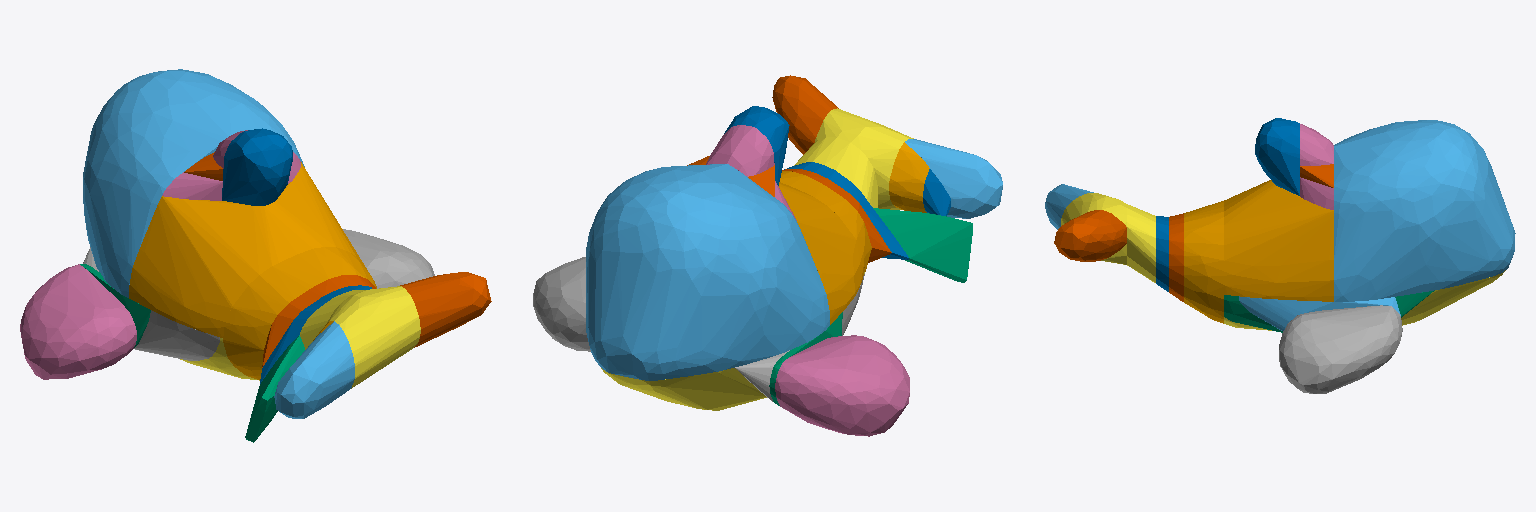
robot.urdf — root:
<?xml version='1.0' encoding='UTF-8'?>
<robot name="root">
  <link name="link_convex_piece_000.obj">
    <inertial>
      <origin xyz="0 0 0" rpy="0 0 0"/>
    </inertial>
    <visual>
      <origin xyz="0 0 0" rpy="0 0 0"/>
      <geometry>
        <mesh filename="meshes/convex_piece_000.obj" scale="1.0 1.0 1.0"/>
      </geometry>
    </visual>
    <collision>
      <origin xyz="0 0 0" rpy="0 0 0"/>
      <geometry>
        <mesh filename="meshes/convex_piece_000.obj" scale="1.0 1.0 1.0"/>
      </geometry>
    </collision>
  </link>
  <link name="link_convex_piece_001.obj">
    <inertial>
      <origin xyz="0 0 0" rpy="0 0 0"/>
    </inertial>
    <visual>
      <origin xyz="0 0 0" rpy="0 0 0"/>
      <geometry>
        <mesh filename="meshes/convex_piece_001.obj" scale="1.0 1.0 1.0"/>
      </geometry>
    </visual>
    <collision>
      <origin xyz="0 0 0" rpy="0 0 0"/>
      <geometry>
        <mesh filename="meshes/convex_piece_001.obj" scale="1.0 1.0 1.0"/>
      </geometry>
    </collision>
  </link>
  <link name="link_convex_piece_002.obj">
    <inertial>
      <origin xyz="0 0 0" rpy="0 0 0"/>
    </inertial>
    <visual>
      <origin xyz="0 0 0" rpy="0 0 0"/>
      <geometry>
        <mesh filename="meshes/convex_piece_002.obj" scale="1.0 1.0 1.0"/>
      </geometry>
    </visual>
    <collision>
      <origin xyz="0 0 0" rpy="0 0 0"/>
      <geometry>
        <mesh filename="meshes/convex_piece_002.obj" scale="1.0 1.0 1.0"/>
      </geometry>
    </collision>
  </link>
  <link name="link_convex_piece_003.obj">
    <inertial>
      <origin xyz="0 0 0" rpy="0 0 0"/>
    </inertial>
    <visual>
      <origin xyz="0 0 0" rpy="0 0 0"/>
      <geometry>
        <mesh filename="meshes/convex_piece_003.obj" scale="1.0 1.0 1.0"/>
      </geometry>
    </visual>
    <collision>
      <origin xyz="0 0 0" rpy="0 0 0"/>
      <geometry>
        <mesh filename="meshes/convex_piece_003.obj" scale="1.0 1.0 1.0"/>
      </geometry>
    </collision>
  </link>
  <link name="link_convex_piece_004.obj">
    <inertial>
      <origin xyz="0 0 0" rpy="0 0 0"/>
    </inertial>
    <visual>
      <origin xyz="0 0 0" rpy="0 0 0"/>
      <geometry>
        <mesh filename="meshes/convex_piece_004.obj" scale="1.0 1.0 1.0"/>
      </geometry>
    </visual>
    <collision>
      <origin xyz="0 0 0" rpy="0 0 0"/>
      <geometry>
        <mesh filename="meshes/convex_piece_004.obj" scale="1.0 1.0 1.0"/>
      </geometry>
    </collision>
  </link>
  <link name="link_convex_piece_005.obj">
    <inertial>
      <origin xyz="0 0 0" rpy="0 0 0"/>
    </inertial>
    <visual>
      <origin xyz="0 0 0" rpy="0 0 0"/>
      <geometry>
        <mesh filename="meshes/convex_piece_005.obj" scale="1.0 1.0 1.0"/>
      </geometry>
    </visual>
    <collision>
      <origin xyz="0 0 0" rpy="0 0 0"/>
      <geometry>
        <mesh filename="meshes/convex_piece_005.obj" scale="1.0 1.0 1.0"/>
      </geometry>
    </collision>
  </link>
  <link name="link_convex_piece_006.obj">
    <inertial>
      <origin xyz="0 0 0" rpy="0 0 0"/>
    </inertial>
    <visual>
      <origin xyz="0 0 0" rpy="0 0 0"/>
      <geometry>
        <mesh filename="meshes/convex_piece_006.obj" scale="1.0 1.0 1.0"/>
      </geometry>
    </visual>
    <collision>
      <origin xyz="0 0 0" rpy="0 0 0"/>
      <geometry>
        <mesh filename="meshes/convex_piece_006.obj" scale="1.0 1.0 1.0"/>
      </geometry>
    </collision>
  </link>
  <link name="link_convex_piece_007.obj">
    <inertial>
      <origin xyz="0 0 0" rpy="0 0 0"/>
    </inertial>
    <visual>
      <origin xyz="0 0 0" rpy="0 0 0"/>
      <geometry>
        <mesh filename="meshes/convex_piece_007.obj" scale="1.0 1.0 1.0"/>
      </geometry>
    </visual>
    <collision>
      <origin xyz="0 0 0" rpy="0 0 0"/>
      <geometry>
        <mesh filename="meshes/convex_piece_007.obj" scale="1.0 1.0 1.0"/>
      </geometry>
    </collision>
  </link>
  <link name="link_convex_piece_008.obj">
    <inertial>
      <origin xyz="0 0 0" rpy="0 0 0"/>
    </inertial>
    <visual>
      <origin xyz="0 0 0" rpy="0 0 0"/>
      <geometry>
        <mesh filename="meshes/convex_piece_008.obj" scale="1.0 1.0 1.0"/>
      </geometry>
    </visual>
    <collision>
      <origin xyz="0 0 0" rpy="0 0 0"/>
      <geometry>
        <mesh filename="meshes/convex_piece_008.obj" scale="1.0 1.0 1.0"/>
      </geometry>
    </collision>
  </link>
  <link name="link_convex_piece_009.obj">
    <inertial>
      <origin xyz="0 0 0" rpy="0 0 0"/>
    </inertial>
    <visual>
      <origin xyz="0 0 0" rpy="0 0 0"/>
      <geometry>
        <mesh filename="meshes/convex_piece_009.obj" scale="1.0 1.0 1.0"/>
      </geometry>
    </visual>
    <collision>
      <origin xyz="0 0 0" rpy="0 0 0"/>
      <geometry>
        <mesh filename="meshes/convex_piece_009.obj" scale="1.0 1.0 1.0"/>
      </geometry>
    </collision>
  </link>
  <link name="link_convex_piece_010.obj">
    <inertial>
      <origin xyz="0 0 0" rpy="0 0 0"/>
    </inertial>
    <visual>
      <origin xyz="0 0 0" rpy="0 0 0"/>
      <geometry>
        <mesh filename="meshes/convex_piece_010.obj" scale="1.0 1.0 1.0"/>
      </geometry>
    </visual>
    <collision>
      <origin xyz="0 0 0" rpy="0 0 0"/>
      <geometry>
        <mesh filename="meshes/convex_piece_010.obj" scale="1.0 1.0 1.0"/>
      </geometry>
    </collision>
  </link>
  <link name="link_convex_piece_011.obj">
    <inertial>
      <origin xyz="0 0 0" rpy="0 0 0"/>
    </inertial>
    <visual>
      <origin xyz="0 0 0" rpy="0 0 0"/>
      <geometry>
        <mesh filename="meshes/convex_piece_011.obj" scale="1.0 1.0 1.0"/>
      </geometry>
    </visual>
    <collision>
      <origin xyz="0 0 0" rpy="0 0 0"/>
      <geometry>
        <mesh filename="meshes/convex_piece_011.obj" scale="1.0 1.0 1.0"/>
      </geometry>
    </collision>
  </link>
  <link name="link_convex_piece_012.obj">
    <inertial>
      <origin xyz="0 0 0" rpy="0 0 0"/>
    </inertial>
    <visual>
      <origin xyz="0 0 0" rpy="0 0 0"/>
      <geometry>
        <mesh filename="meshes/convex_piece_012.obj" scale="1.0 1.0 1.0"/>
      </geometry>
    </visual>
    <collision>
      <origin xyz="0 0 0" rpy="0 0 0"/>
      <geometry>
        <mesh filename="meshes/convex_piece_012.obj" scale="1.0 1.0 1.0"/>
      </geometry>
    </collision>
  </link>
  <link name="link_convex_piece_013.obj">
    <inertial>
      <origin xyz="0 0 0" rpy="0 0 0"/>
    </inertial>
    <visual>
      <origin xyz="0 0 0" rpy="0 0 0"/>
      <geometry>
        <mesh filename="meshes/convex_piece_013.obj" scale="1.0 1.0 1.0"/>
      </geometry>
    </visual>
    <collision>
      <origin xyz="0 0 0" rpy="0 0 0"/>
      <geometry>
        <mesh filename="meshes/convex_piece_013.obj" scale="1.0 1.0 1.0"/>
      </geometry>
    </collision>
  </link>
  <link name="link_convex_piece_014.obj">
    <inertial>
      <origin xyz="0 0 0" rpy="0 0 0"/>
    </inertial>
    <visual>
      <origin xyz="0 0 0" rpy="0 0 0"/>
      <geometry>
        <mesh filename="meshes/convex_piece_014.obj" scale="1.0 1.0 1.0"/>
      </geometry>
    </visual>
    <collision>
      <origin xyz="0 0 0" rpy="0 0 0"/>
      <geometry>
        <mesh filename="meshes/convex_piece_014.obj" scale="1.0 1.0 1.0"/>
      </geometry>
    </collision>
  </link>
  <link name="link_convex_piece_015.obj">
    <inertial>
      <origin xyz="0 0 0" rpy="0 0 0"/>
    </inertial>
    <visual>
      <origin xyz="0 0 0" rpy="0 0 0"/>
      <geometry>
        <mesh filename="meshes/convex_piece_015.obj" scale="1.0 1.0 1.0"/>
      </geometry>
    </visual>
    <collision>
      <origin xyz="0 0 0" rpy="0 0 0"/>
      <geometry>
        <mesh filename="meshes/convex_piece_015.obj" scale="1.0 1.0 1.0"/>
      </geometry>
    </collision>
  </link>
  <link name="link_convex_piece_016.obj">
    <inertial>
      <origin xyz="0 0 0" rpy="0 0 0"/>
    </inertial>
    <visual>
      <origin xyz="0 0 0" rpy="0 0 0"/>
      <geometry>
        <mesh filename="meshes/convex_piece_016.obj" scale="1.0 1.0 1.0"/>
      </geometry>
    </visual>
    <collision>
      <origin xyz="0 0 0" rpy="0 0 0"/>
      <geometry>
        <mesh filename="meshes/convex_piece_016.obj" scale="1.0 1.0 1.0"/>
      </geometry>
    </collision>
  </link>
  <link name="link_convex_piece_017.obj">
    <inertial>
      <origin xyz="0 0 0" rpy="0 0 0"/>
    </inertial>
    <visual>
      <origin xyz="0 0 0" rpy="0 0 0"/>
      <geometry>
        <mesh filename="meshes/convex_piece_017.obj" scale="1.0 1.0 1.0"/>
      </geometry>
    </visual>
    <collision>
      <origin xyz="0 0 0" rpy="0 0 0"/>
      <geometry>
        <mesh filename="meshes/convex_piece_017.obj" scale="1.0 1.0 1.0"/>
      </geometry>
    </collision>
  </link>
  <link name="link_convex_piece_018.obj">
    <inertial>
      <origin xyz="0 0 0" rpy="0 0 0"/>
    </inertial>
    <visual>
      <origin xyz="0 0 0" rpy="0 0 0"/>
      <geometry>
        <mesh filename="meshes/convex_piece_018.obj" scale="1.0 1.0 1.0"/>
      </geometry>
    </visual>
    <collision>
      <origin xyz="0 0 0" rpy="0 0 0"/>
      <geometry>
        <mesh filename="meshes/convex_piece_018.obj" scale="1.0 1.0 1.0"/>
      </geometry>
    </collision>
  </link>
  <link name="link_convex_piece_019.obj">
    <inertial>
      <origin xyz="0 0 0" rpy="0 0 0"/>
    </inertial>
    <visual>
      <origin xyz="0 0 0" rpy="0 0 0"/>
      <geometry>
        <mesh filename="meshes/convex_piece_019.obj" scale="1.0 1.0 1.0"/>
      </geometry>
    </visual>
    <collision>
      <origin xyz="0 0 0" rpy="0 0 0"/>
      <geometry>
        <mesh filename="meshes/convex_piece_019.obj" scale="1.0 1.0 1.0"/>
      </geometry>
    </collision>
  </link>
  <link name="link_convex_piece_020.obj">
    <inertial>
      <origin xyz="0 0 0" rpy="0 0 0"/>
    </inertial>
    <visual>
      <origin xyz="0 0 0" rpy="0 0 0"/>
      <geometry>
        <mesh filename="meshes/convex_piece_020.obj" scale="1.0 1.0 1.0"/>
      </geometry>
    </visual>
    <collision>
      <origin xyz="0 0 0" rpy="0 0 0"/>
      <geometry>
        <mesh filename="meshes/convex_piece_020.obj" scale="1.0 1.0 1.0"/>
      </geometry>
    </collision>
  </link>
  <link name="link_convex_piece_021.obj">
    <inertial>
      <origin xyz="0 0 0" rpy="0 0 0"/>
    </inertial>
    <visual>
      <origin xyz="0 0 0" rpy="0 0 0"/>
      <geometry>
        <mesh filename="meshes/convex_piece_021.obj" scale="1.0 1.0 1.0"/>
      </geometry>
    </visual>
    <collision>
      <origin xyz="0 0 0" rpy="0 0 0"/>
      <geometry>
        <mesh filename="meshes/convex_piece_021.obj" scale="1.0 1.0 1.0"/>
      </geometry>
    </collision>
  </link>
  <link name="link_convex_piece_022.obj">
    <inertial>
      <origin xyz="0 0 0" rpy="0 0 0"/>
    </inertial>
    <visual>
      <origin xyz="0 0 0" rpy="0 0 0"/>
      <geometry>
        <mesh filename="meshes/convex_piece_022.obj" scale="1.0 1.0 1.0"/>
      </geometry>
    </visual>
    <collision>
      <origin xyz="0 0 0" rpy="0 0 0"/>
      <geometry>
        <mesh filename="meshes/convex_piece_022.obj" scale="1.0 1.0 1.0"/>
      </geometry>
    </collision>
  </link>
  <joint name="link_convex_piece_001.obj_joint" type="fixed">
    <origin xyz="0 0 0" rpy="0 0 0"/>
    <parent link="link_convex_piece_000.obj"/>
    <child link="link_convex_piece_001.obj"/>
  </joint>
  <joint name="link_convex_piece_002.obj_joint" type="fixed">
    <origin xyz="0 0 0" rpy="0 0 0"/>
    <parent link="link_convex_piece_000.obj"/>
    <child link="link_convex_piece_002.obj"/>
  </joint>
  <joint name="link_convex_piece_003.obj_joint" type="fixed">
    <origin xyz="0 0 0" rpy="0 0 0"/>
    <parent link="link_convex_piece_000.obj"/>
    <child link="link_convex_piece_003.obj"/>
  </joint>
  <joint name="link_convex_piece_004.obj_joint" type="fixed">
    <origin xyz="0 0 0" rpy="0 0 0"/>
    <parent link="link_convex_piece_000.obj"/>
    <child link="link_convex_piece_004.obj"/>
  </joint>
  <joint name="link_convex_piece_005.obj_joint" type="fixed">
    <origin xyz="0 0 0" rpy="0 0 0"/>
    <parent link="link_convex_piece_000.obj"/>
    <child link="link_convex_piece_005.obj"/>
  </joint>
  <joint name="link_convex_piece_006.obj_joint" type="fixed">
    <origin xyz="0 0 0" rpy="0 0 0"/>
    <parent link="link_convex_piece_000.obj"/>
    <child link="link_convex_piece_006.obj"/>
  </joint>
  <joint name="link_convex_piece_007.obj_joint" type="fixed">
    <origin xyz="0 0 0" rpy="0 0 0"/>
    <parent link="link_convex_piece_000.obj"/>
    <child link="link_convex_piece_007.obj"/>
  </joint>
  <joint name="link_convex_piece_008.obj_joint" type="fixed">
    <origin xyz="0 0 0" rpy="0 0 0"/>
    <parent link="link_convex_piece_000.obj"/>
    <child link="link_convex_piece_008.obj"/>
  </joint>
  <joint name="link_convex_piece_009.obj_joint" type="fixed">
    <origin xyz="0 0 0" rpy="0 0 0"/>
    <parent link="link_convex_piece_000.obj"/>
    <child link="link_convex_piece_009.obj"/>
  </joint>
  <joint name="link_convex_piece_010.obj_joint" type="fixed">
    <origin xyz="0 0 0" rpy="0 0 0"/>
    <parent link="link_convex_piece_000.obj"/>
    <child link="link_convex_piece_010.obj"/>
  </joint>
  <joint name="link_convex_piece_011.obj_joint" type="fixed">
    <origin xyz="0 0 0" rpy="0 0 0"/>
    <parent link="link_convex_piece_000.obj"/>
    <child link="link_convex_piece_011.obj"/>
  </joint>
  <joint name="link_convex_piece_012.obj_joint" type="fixed">
    <origin xyz="0 0 0" rpy="0 0 0"/>
    <parent link="link_convex_piece_000.obj"/>
    <child link="link_convex_piece_012.obj"/>
  </joint>
  <joint name="link_convex_piece_013.obj_joint" type="fixed">
    <origin xyz="0 0 0" rpy="0 0 0"/>
    <parent link="link_convex_piece_000.obj"/>
    <child link="link_convex_piece_013.obj"/>
  </joint>
  <joint name="link_convex_piece_014.obj_joint" type="fixed">
    <origin xyz="0 0 0" rpy="0 0 0"/>
    <parent link="link_convex_piece_000.obj"/>
    <child link="link_convex_piece_014.obj"/>
  </joint>
  <joint name="link_convex_piece_015.obj_joint" type="fixed">
    <origin xyz="0 0 0" rpy="0 0 0"/>
    <parent link="link_convex_piece_000.obj"/>
    <child link="link_convex_piece_015.obj"/>
  </joint>
  <joint name="link_convex_piece_016.obj_joint" type="fixed">
    <origin xyz="0 0 0" rpy="0 0 0"/>
    <parent link="link_convex_piece_000.obj"/>
    <child link="link_convex_piece_016.obj"/>
  </joint>
  <joint name="link_convex_piece_017.obj_joint" type="fixed">
    <origin xyz="0 0 0" rpy="0 0 0"/>
    <parent link="link_convex_piece_000.obj"/>
    <child link="link_convex_piece_017.obj"/>
  </joint>
  <joint name="link_convex_piece_018.obj_joint" type="fixed">
    <origin xyz="0 0 0" rpy="0 0 0"/>
    <parent link="link_convex_piece_000.obj"/>
    <child link="link_convex_piece_018.obj"/>
  </joint>
  <joint name="link_convex_piece_019.obj_joint" type="fixed">
    <origin xyz="0 0 0" rpy="0 0 0"/>
    <parent link="link_convex_piece_000.obj"/>
    <child link="link_convex_piece_019.obj"/>
  </joint>
  <joint name="link_convex_piece_020.obj_joint" type="fixed">
    <origin xyz="0 0 0" rpy="0 0 0"/>
    <parent link="link_convex_piece_000.obj"/>
    <child link="link_convex_piece_020.obj"/>
  </joint>
  <joint name="link_convex_piece_021.obj_joint" type="fixed">
    <origin xyz="0 0 0" rpy="0 0 0"/>
    <parent link="link_convex_piece_000.obj"/>
    <child link="link_convex_piece_021.obj"/>
  </joint>
  <joint name="link_convex_piece_022.obj_joint" type="fixed">
    <origin xyz="0 0 0" rpy="0 0 0"/>
    <parent link="link_convex_piece_000.obj"/>
    <child link="link_convex_piece_022.obj"/>
  </joint>
</robot>

--- Facts derived from the render (not from the file) ---
The picture shows the robot from 3 angles, left to right: view 1: azimuth 30°, elevation 25°; view 2: azimuth 150°, elevation 25°; view 3: azimuth 270°, elevation 25°; orthographic projection.
Model root with 23 links and 22 joints (22 fixed), rooted at link_convex_piece_000.obj, posed every joint at zero.
Links seen in each view (by area): view 1: link_convex_piece_001.obj, link_convex_piece_008.obj, link_convex_piece_006.obj, link_convex_piece_000.obj, link_convex_piece_011.obj, link_convex_piece_009.obj, link_convex_piece_012.obj, link_convex_piece_013.obj, link_convex_piece_007.obj, link_convex_piece_015.obj, link_convex_piece_010.obj, link_convex_piece_005.obj (+6 smaller); view 2: link_convex_piece_001.obj, link_convex_piece_006.obj, link_convex_piece_008.obj, link_convex_piece_010.obj, link_convex_piece_009.obj, link_convex_piece_007.obj, link_convex_piece_019.obj, link_convex_piece_011.obj, link_convex_piece_013.obj, link_convex_piece_003.obj, link_convex_piece_014.obj, link_convex_piece_016.obj (+7 smaller); view 3: link_convex_piece_001.obj, link_convex_piece_008.obj, link_convex_piece_007.obj, link_convex_piece_000.obj, link_convex_piece_013.obj, link_convex_piece_012.obj, link_convex_piece_017.obj, link_convex_piece_003.obj, link_convex_piece_019.obj, link_convex_piece_011.obj, link_convex_piece_018.obj, link_convex_piece_005.obj (+5 smaller).
Boxes of the visible links, box(x1,y1,x2,y2) form: link_convex_piece_001.obj: box(83, 69, 304, 297); link_convex_piece_008.obj: box(129, 162, 364, 337); link_convex_piece_006.obj: box(20, 264, 136, 379); link_convex_piece_000.obj: box(223, 247, 376, 379); link_convex_piece_011.obj: box(327, 286, 420, 388); link_convex_piece_009.obj: box(274, 321, 354, 418); link_convex_piece_012.obj: box(222, 128, 292, 205); link_convex_piece_013.obj: box(400, 272, 491, 347); link_convex_piece_007.obj: box(343, 229, 434, 288); link_convex_piece_015.obj: box(83, 247, 219, 360); link_convex_piece_010.obj: box(245, 335, 304, 442); link_convex_piece_005.obj: box(262, 275, 375, 367); link_convex_piece_001.obj: box(586, 164, 829, 380); link_convex_piece_006.obj: box(775, 335, 909, 436); link_convex_piece_008.obj: box(779, 182, 864, 324); link_convex_piece_010.obj: box(873, 208, 972, 282); link_convex_piece_009.obj: box(905, 139, 1002, 218); link_convex_piece_007.obj: box(533, 257, 590, 351); link_convex_piece_019.obj: box(601, 272, 864, 410); link_convex_piece_011.obj: box(815, 108, 913, 209); link_convex_piece_013.obj: box(772, 75, 838, 154); link_convex_piece_003.obj: box(794, 137, 877, 207); link_convex_piece_014.obj: box(706, 125, 774, 176); link_convex_piece_016.obj: box(889, 142, 929, 212); link_convex_piece_001.obj: box(1334, 120, 1515, 301); link_convex_piece_008.obj: box(1224, 180, 1333, 301); link_convex_piece_007.obj: box(1279, 305, 1402, 393); link_convex_piece_000.obj: box(1184, 201, 1223, 323); link_convex_piece_013.obj: box(1054, 210, 1126, 261); link_convex_piece_012.obj: box(1255, 118, 1299, 195); link_convex_piece_017.obj: box(1239, 296, 1400, 330); link_convex_piece_003.obj: box(1127, 204, 1155, 282); link_convex_piece_019.obj: box(1224, 270, 1505, 330); link_convex_piece_011.obj: box(1061, 193, 1126, 264); link_convex_piece_018.obj: box(1224, 290, 1434, 332); link_convex_piece_005.obj: box(1169, 213, 1183, 301).
Size in the robot's own frame: 0.173 by 0.216 by 0.104 metres.
Meshes: 23 distinct files referenced, 23 mesh visuals loaded (23 OBJ).
